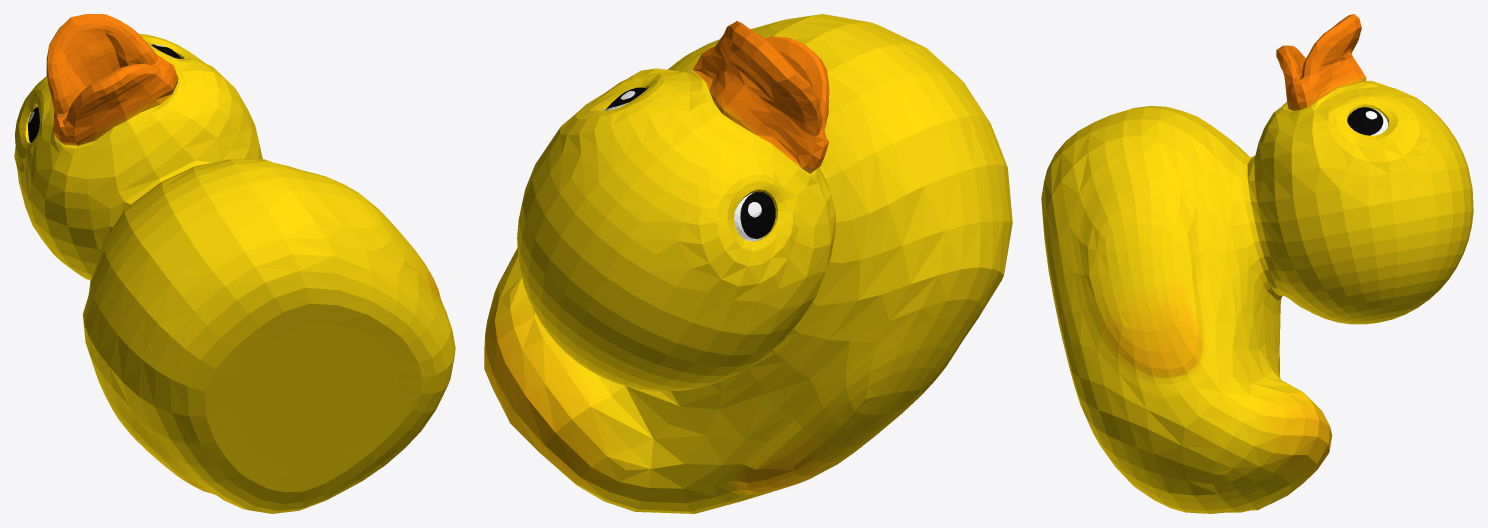
File: duck_polylist_basic.dae
The picture shows the model from 3 angles, left to right: view 1: azimuth 30°, elevation 25°; view 2: azimuth 150°, elevation 25°; view 3: azimuth 270°, elevation 25°; orthographic projection. The views are drawn at different scales.
Parts seen in each view (by area): view 1: LOD3sp; view 2: LOD3sp; view 3: LOD3sp.
Part boxes in pixels (bbox=[...]): LOD3sp: bbox=[14, 14, 455, 513]; LOD3sp: bbox=[484, 14, 1012, 513]; LOD3sp: bbox=[1041, 14, 1473, 513].
Size of the model in its own units: 171 by 190 by 207.
Materials: 1 (1 with a texture image).
